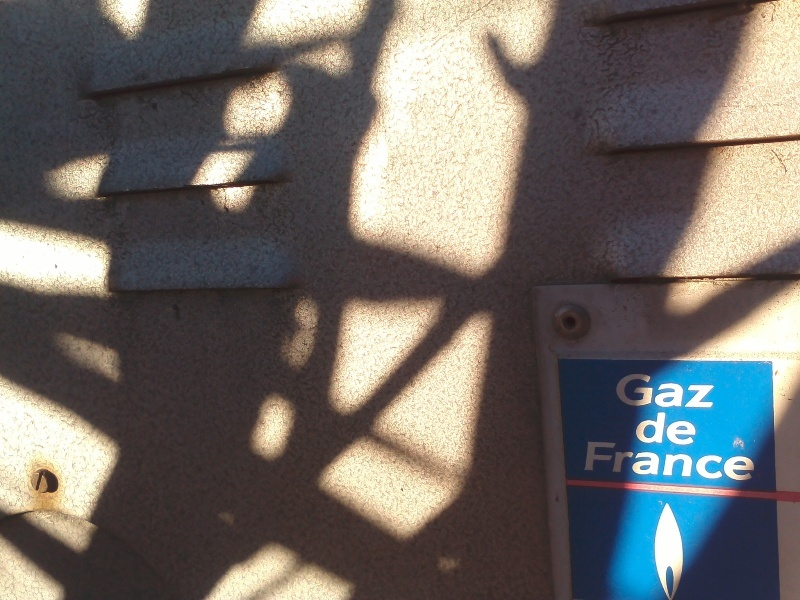text: (593, 440, 608, 482), (609, 440, 624, 482), (625, 440, 640, 482), (641, 440, 656, 482), (657, 440, 672, 482), (673, 440, 688, 482), (689, 440, 704, 482), (705, 440, 720, 482), (721, 440, 736, 482), (737, 440, 752, 482), (625, 372, 640, 409), (641, 372, 656, 409), (657, 372, 672, 409), (673, 372, 688, 409), (689, 372, 704, 409), (641, 410, 656, 447), (657, 410, 672, 447), (673, 410, 688, 447), (705, 372, 717, 409), (689, 410, 698, 447), (617, 372, 624, 409), (753, 440, 758, 482), (588, 440, 592, 482), (638, 410, 640, 447)
